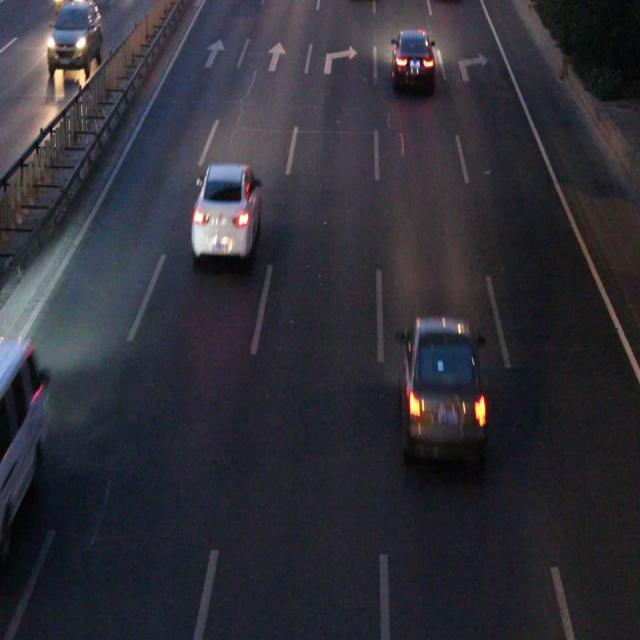car: (400, 316, 483, 461), (191, 164, 261, 256), (390, 31, 432, 85)
truck: (1, 340, 47, 522)
